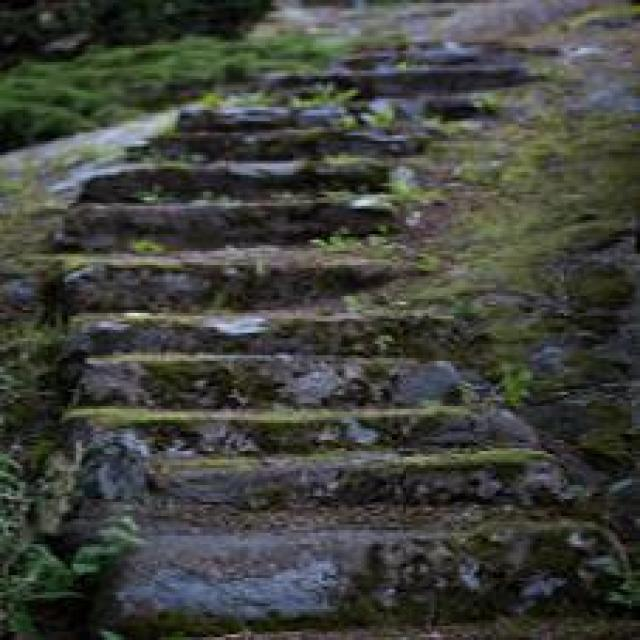upstair: (94, 184, 540, 610)
